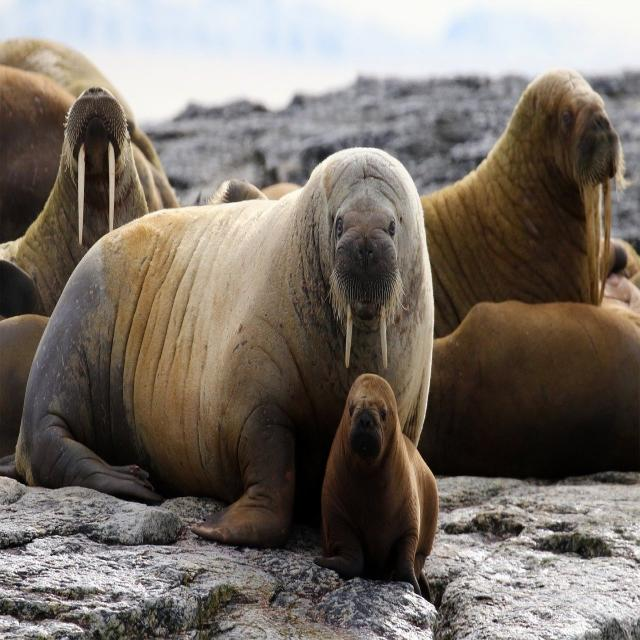walrus: (22, 129, 442, 491), (310, 392, 477, 581)
